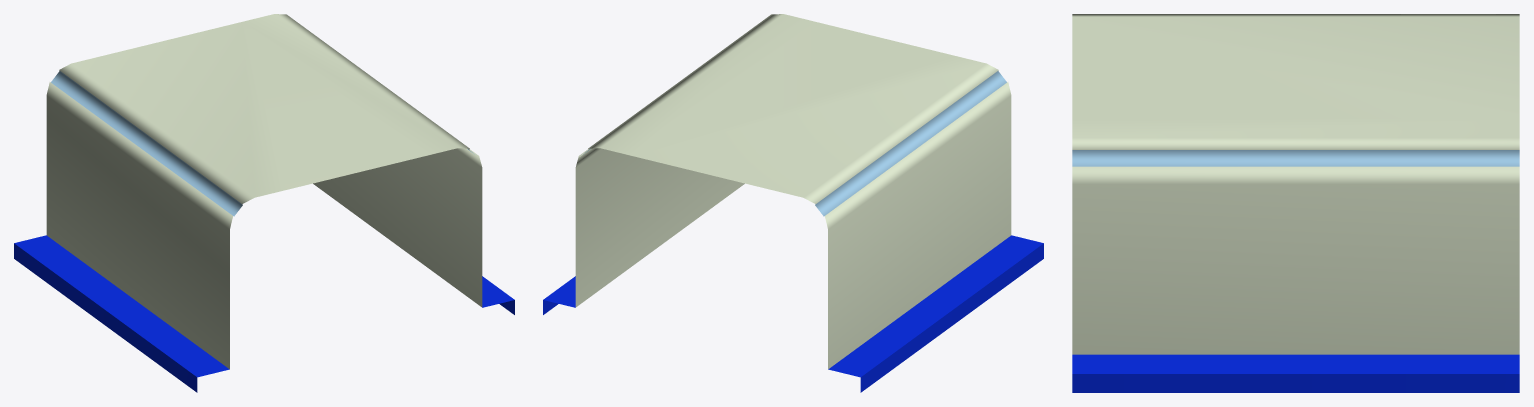
File: Wall_Island_Straight.fbx
3 renders of one model, left to right at view 1: azimuth 30°, elevation 25°; view 2: azimuth 150°, elevation 25°; view 3: azimuth 270°, elevation 25°, orthographic. The views are drawn at different scales.
Visible parts, largest first — view 1: Wall_Island_Straight; view 2: Wall_Island_Straight; view 3: Wall_Island_Straight.
Part boxes in pixels (x1,y1,x2,y2): Wall_Island_Straight: [14, 14, 514, 392]; Wall_Island_Straight: [543, 14, 1043, 392]; Wall_Island_Straight: [1072, 14, 1519, 392].
Bounding box in the file's own units: 100 × 54.53 × 100.
